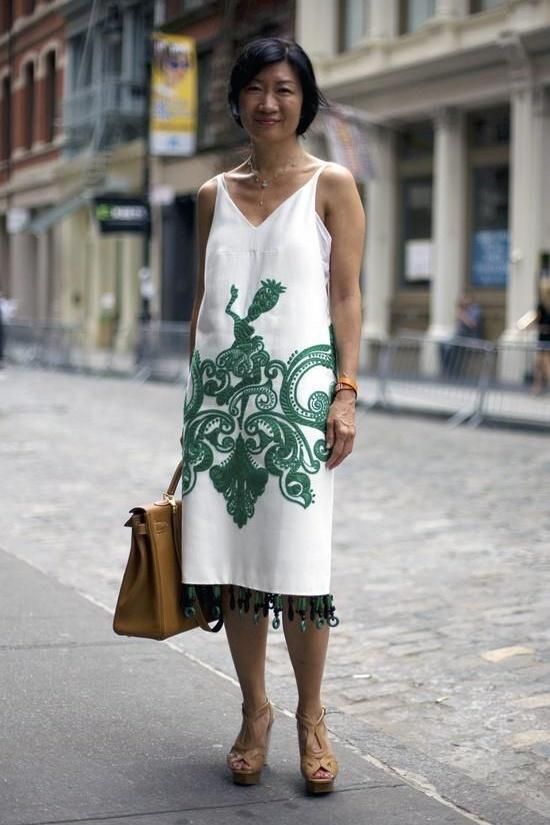dress: (176, 156, 336, 630)
